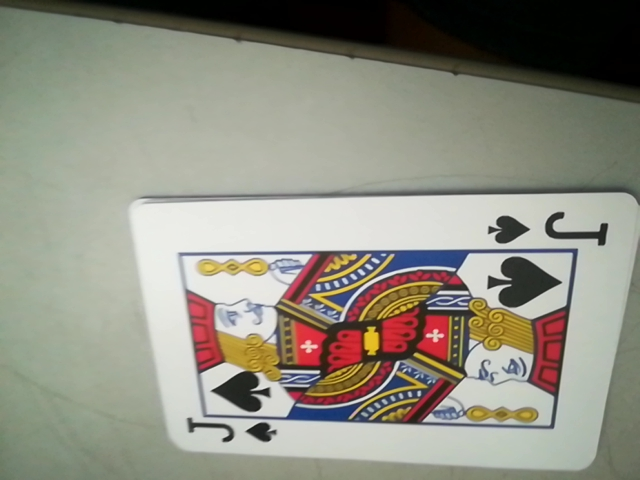ht j: (175, 410, 285, 453)
